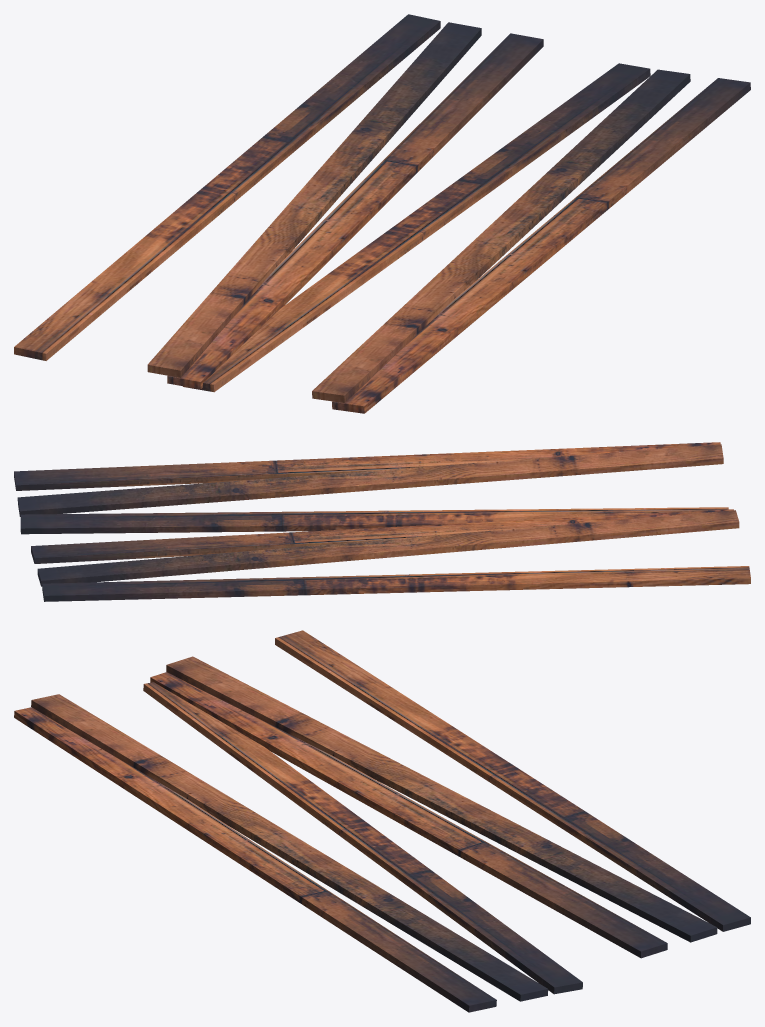
The model's file is wood.glb.
3 renders of one model, top to bottom at view 1: azimuth 30°, elevation 25°; view 2: azimuth 150°, elevation 25°; view 3: azimuth 270°, elevation 25°, orthographic. The views are drawn at different scales.
Visible parts, largest first — view 1: planks, planks.001; view 2: planks, planks.001; view 3: planks, planks.001.
Part boxes in pixels (box(x1,y1,x2,y2)): planks: box(14, 14, 543, 389); planks.001: box(183, 63, 750, 413); planks: box(31, 509, 750, 601); planks.001: box(14, 442, 728, 534); planks: box(150, 630, 750, 958); planks.001: box(14, 682, 582, 1012).
Size of the model in its own units: 2.92 by 0.1126 by 2.44.
Materials: 2 (2 with a texture image).
